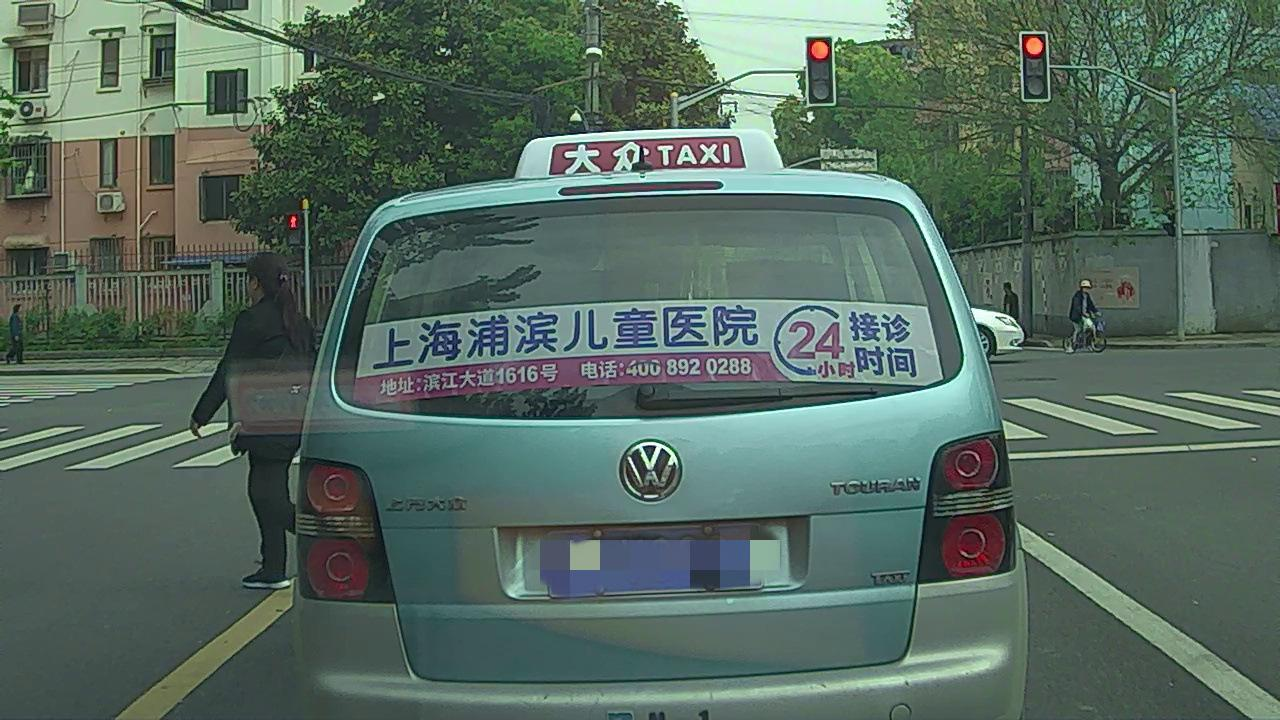traffic_light: (1021, 33, 1048, 101), (807, 38, 835, 102)
